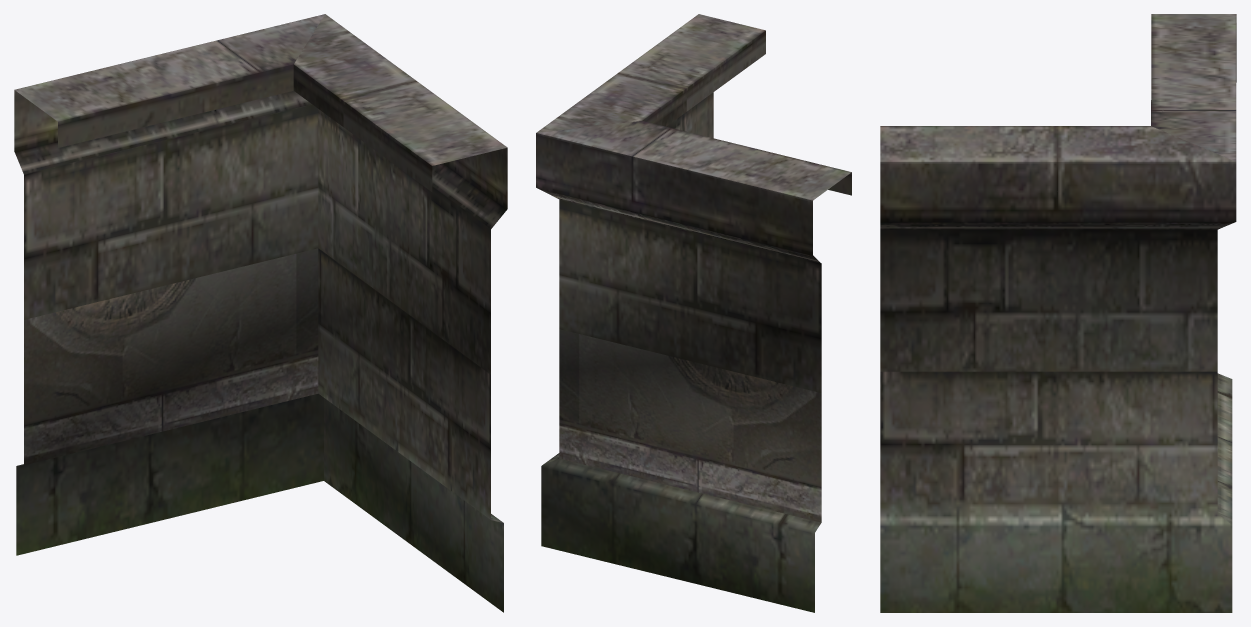
File: jz_gaotai02_53_31_9674out.fbx
3 views of the same model, side by side, from view 1: azimuth 30°, elevation 25°; view 2: azimuth 150°, elevation 25°; view 3: azimuth 270°, elevation 25° (orthographic). The views are drawn at different scales.
Parts seen in each view (by area): view 1: jz_gaotai02; view 2: jz_gaotai02; view 3: jz_gaotai02.
Part boxes in pixels (x1,y1,x2,y2): jz_gaotai02: [14, 14, 507, 612]; jz_gaotai02: [536, 14, 851, 612]; jz_gaotai02: [880, 14, 1236, 612].
Bounding box in the file's own units: 3.03 × 4.32 × 3.08.
